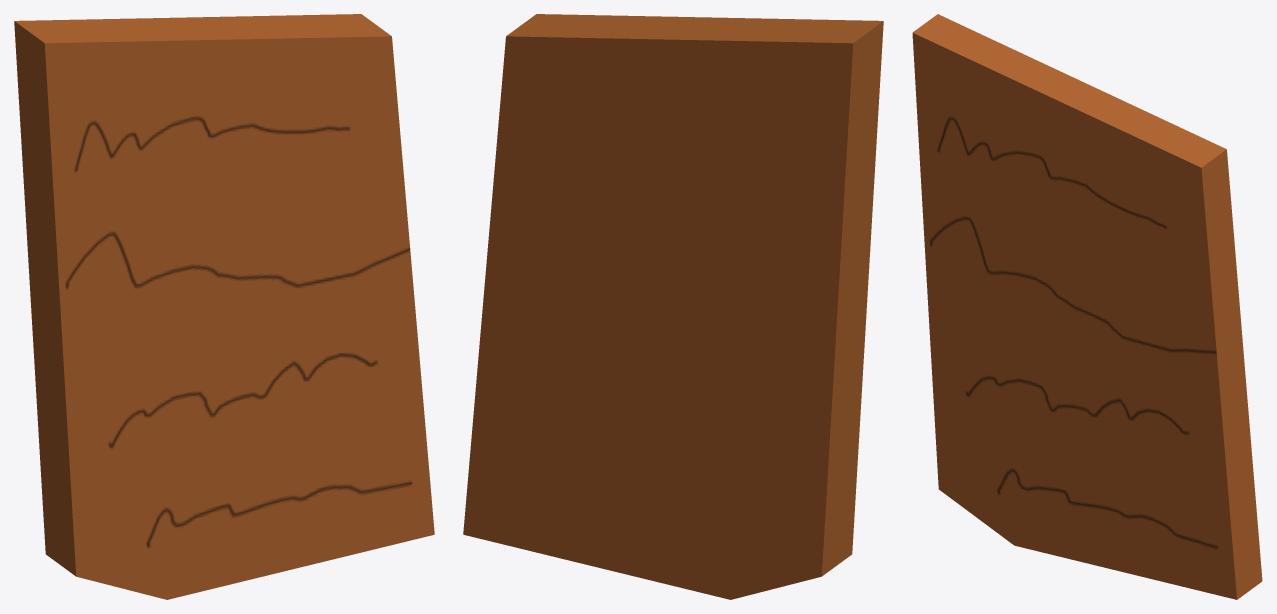
Rendered from Stone tablet.fbx.
3 renders of one model, left to right at view 1: azimuth 30°, elevation 25°; view 2: azimuth 150°, elevation 25°; view 3: azimuth 330°, elevation 25°, orthographic. The views are drawn at different scales.
Parts seen in each view (by area): view 1: Cube; view 2: Cube; view 3: Cube.
Boxes of the visible parts, x1,y1,x2,y2 form: Cube: (14, 14, 434, 599); Cube: (463, 14, 883, 599); Cube: (912, 14, 1262, 599).
Size of the model in its own units: 92.47 by 133 by 12.54.
1 material, 1 textured.
